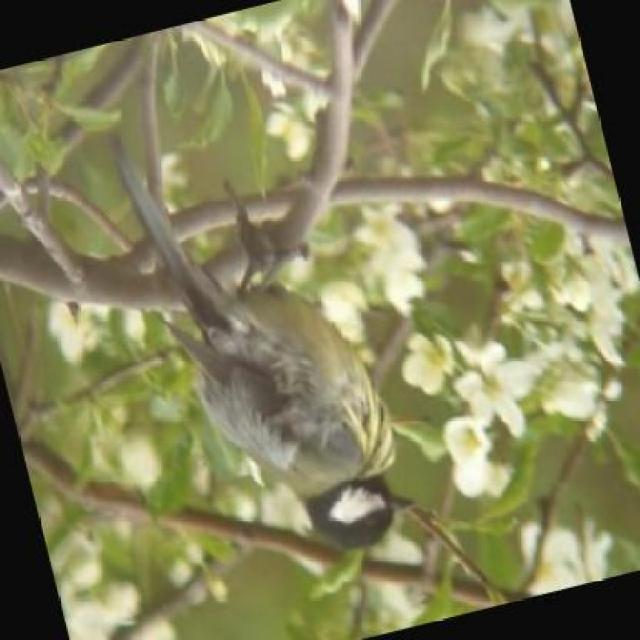Bird: (144, 204, 420, 550)
